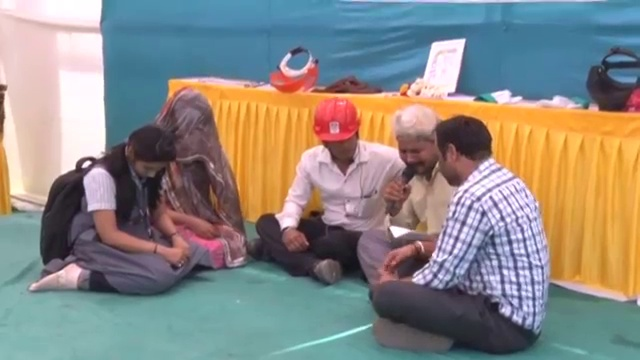helmet: (305, 98, 364, 146)
helmet_off: (436, 114, 495, 188), (160, 88, 215, 159), (117, 123, 176, 188), (394, 104, 440, 174)
helmet_on: (304, 98, 364, 166)
person: (368, 113, 551, 357), (248, 93, 404, 283), (32, 123, 198, 298), (144, 78, 250, 271), (358, 99, 457, 288)
